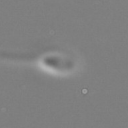normal: (1, 53, 39, 72)
